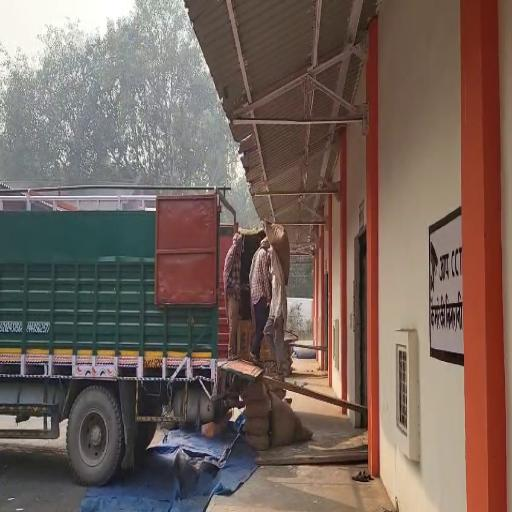bag: (264, 214, 294, 281)
